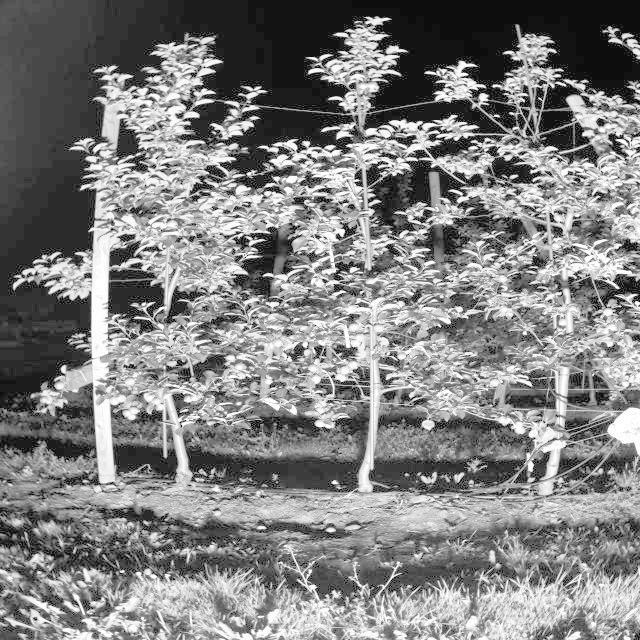Tree: (291, 18, 433, 494), (125, 36, 260, 492), (500, 35, 625, 493)
